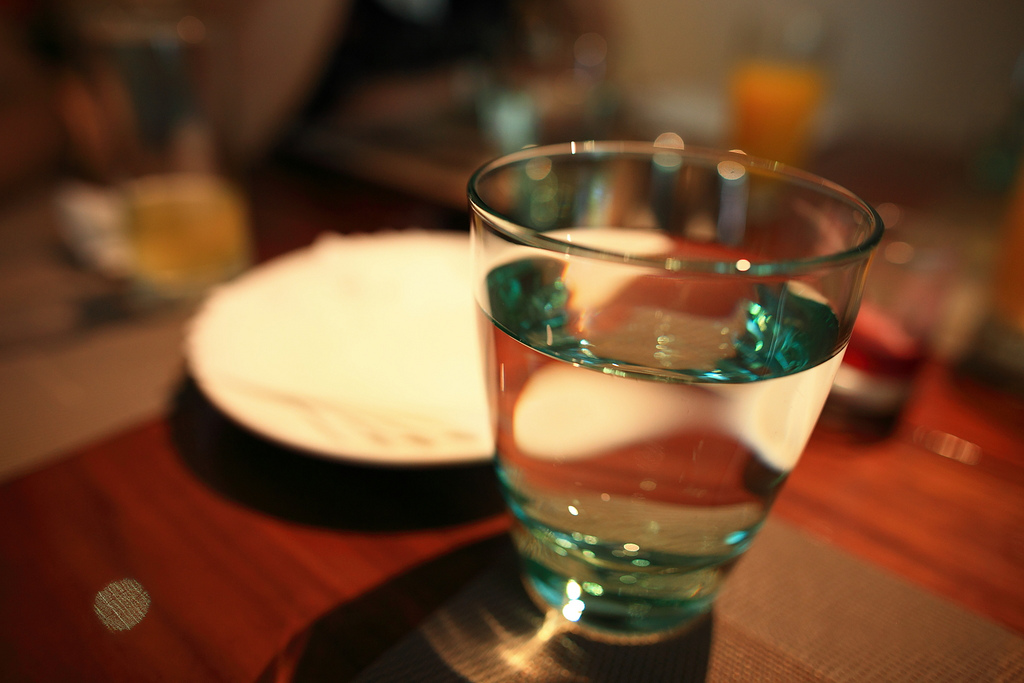glass of water: (474, 131, 869, 657)
